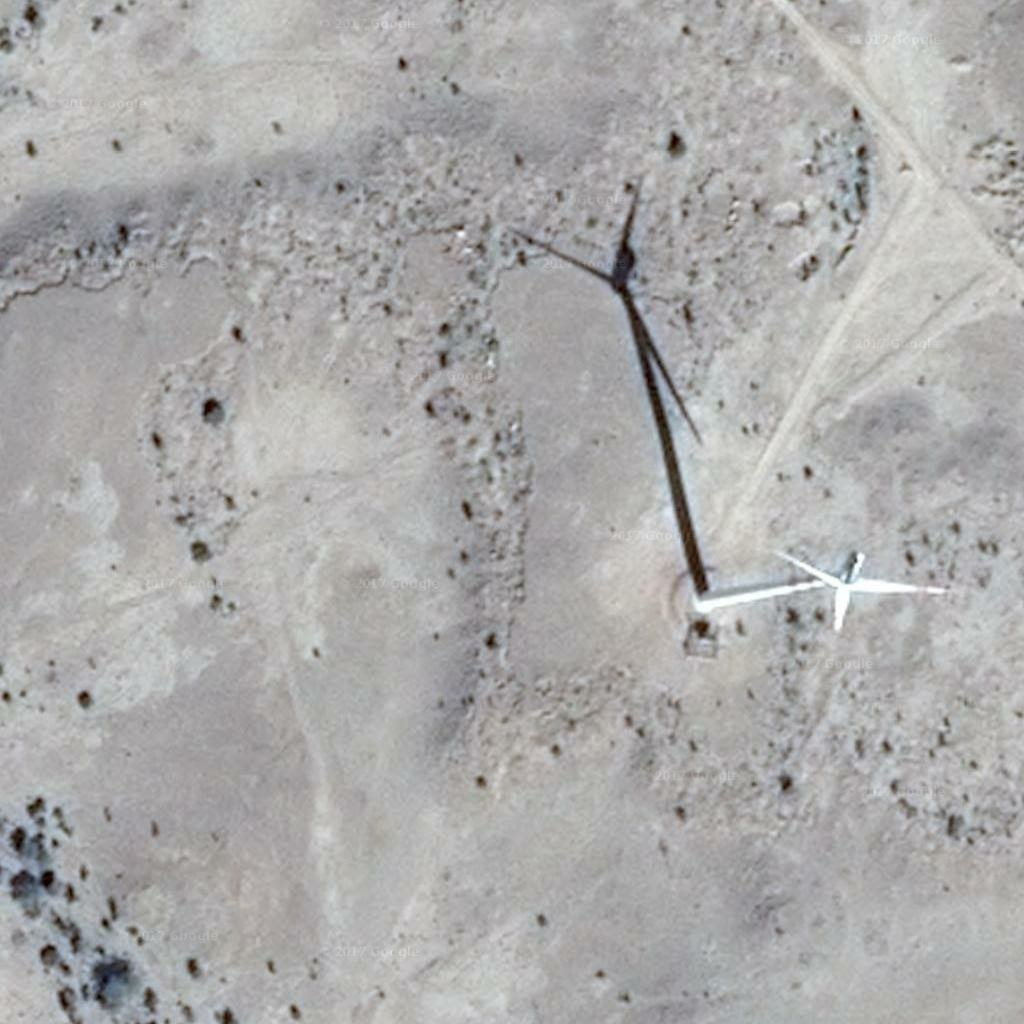Windmill: (511, 167, 714, 587)
